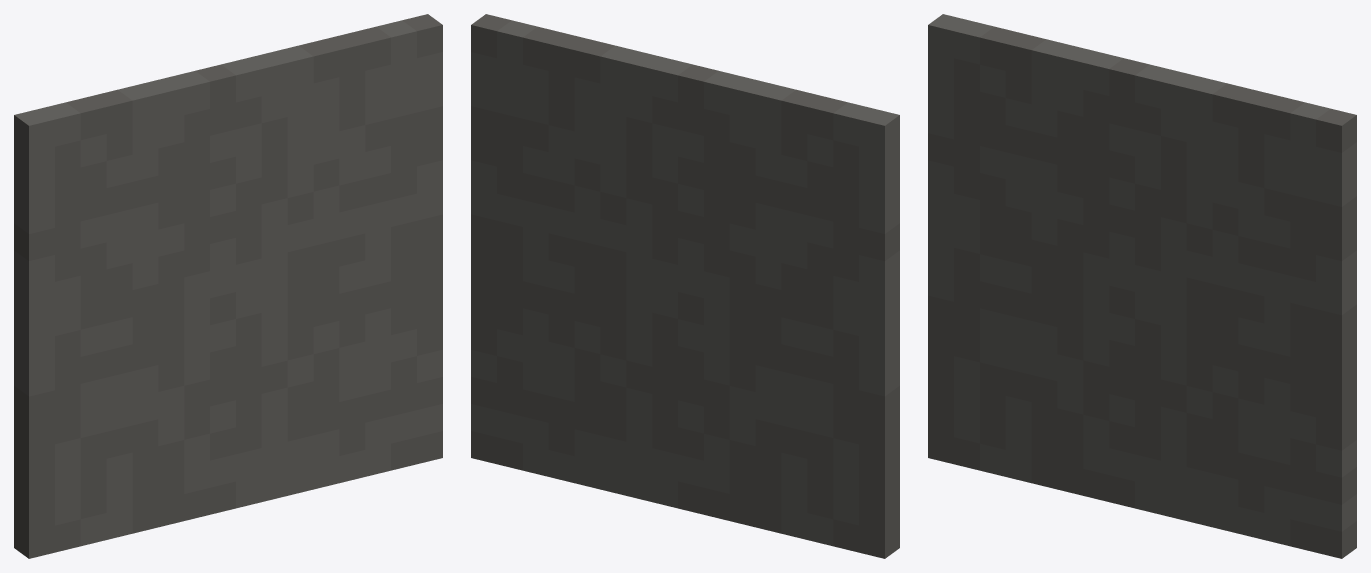
The model's file is church-3-cata_wallhanging.obj.
3 views of the same model, side by side, from view 1: azimuth 30°, elevation 25°; view 2: azimuth 150°, elevation 25°; view 3: azimuth 330°, elevation 25° (orthographic).
Parts seen in each view (by area): view 1: cata_wallhanging; view 2: cata_wallhanging; view 3: cata_wallhanging.
Boxes of the visible parts, <box> form: cata_wallhanging: <box>14,14,442,558</box>; cata_wallhanging: <box>471,14,899,558</box>; cata_wallhanging: <box>928,14,1356,558</box>.
Bounding box in the file's own units: 1.6 × 1.6 × 0.1.
Materials: 1 (1 with a texture image).
